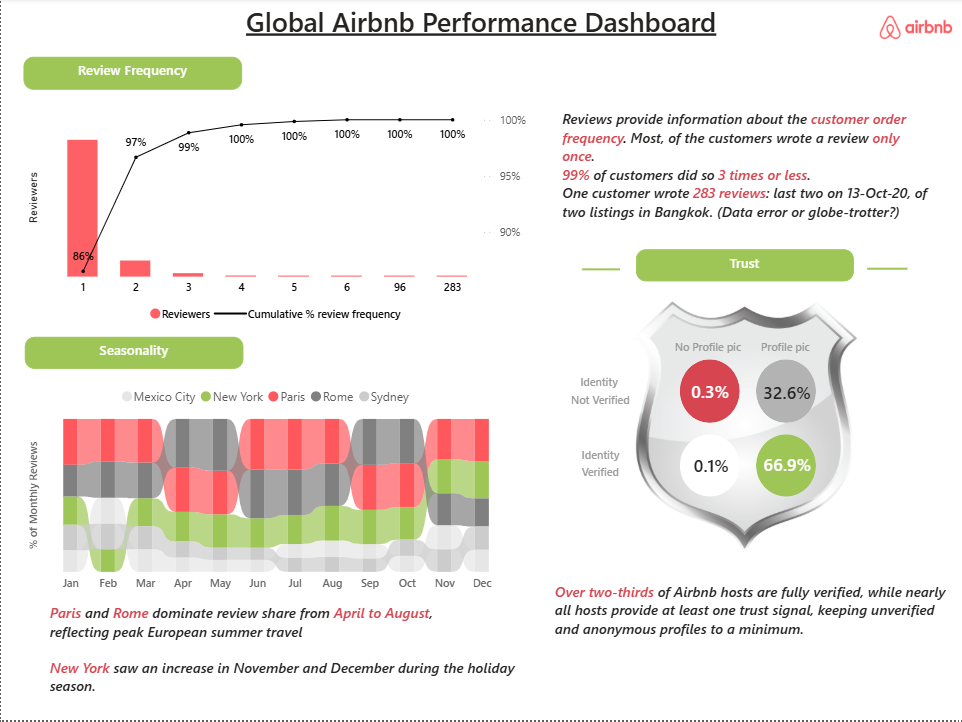

The page's visual inventory and layout, read from the dashboard file:
{"tool":"powerbi","page":{"name":"Reviews","canvas":[960,720],"ordinal":2},"visuals":[{"type":"textbox","box":[238.7,0,482.7,58.5],"z":0},{"type":"image","box":[874.5,11.2,72.1,36.1],"z":1000},{"type":"textbox","box":[22.5,58.8,217.5,32.5],"z":2000},{"type":"textbox","box":[553.6,105.7,378.2,130.6],"z":3000},{"type":"textbox","box":[631.9,250.1,216.4,32.3],"z":4000},{"type":"shape","box":[578.6,250.2,37.5,40],"z":5000},{"type":"shape","box":[862.3,250.2,40,38.8],"z":6000},{"type":"image","box":[521.2,236.4,437.9,381.9],"z":8000},{"type":"lineStackedColumnComboChart","fields":{"Category":["Reviews.Reviews Per Reviewer"],"Y":["Reviews.Reviewers"],"Y2":["Reviews.Cumulative % review frequency"]},"box":[22.4,105.7,505,226.4],"z":9000},{"type":"shape","box":[675.5,359.5,59.7,63.4],"z":10000},{"type":"shape","box":[751.4,359.5,59.7,63.4],"z":11000},{"type":"shape","box":[675.5,434.1,59.7,62.2],"z":12000},{"type":"shape","box":[751.4,434.1,59.7,62.2],"z":13000},{"type":"cardVisual","fields":{"Data":["Listings.% for notverified_noprofile"]},"box":[651.8,358.3,108.2,63.4],"z":14000},{"type":"cardVisual","fields":{"Data":["Listings.% for verified_profile"]},"box":[735.2,436.6,95.8,53.5],"z":15000},{"type":"cardVisual","fields":{"Data":["Listings.% for verified_noprofile"]},"box":[653.1,437.9,108.2,51],"z":16000},{"type":"cardVisual","fields":{"Data":["Listings.% for notverified_profile"]},"box":[733.9,364.5,97,52.2],"z":17000},{"type":"textbox","box":[730.2,332.1,100.8,32.3],"z":18000},{"type":"textbox","box":[653.1,332.1,100.8,32.3],"z":19000},{"type":"textbox","box":[546.1,439.1,100.8,52.2],"z":20000},{"type":"textbox","box":[546.1,367,100.8,48.5],"z":21000},{"type":"textbox","box":[23.6,337.1,217.7,32.3],"z":22000},{"type":"textbox","box":[546.1,576,400.6,85.8],"z":23000},{"type":"ribbonChart","fields":{"Y":["Reviews.% of Monthly Reviews"],"Series":["Listings.city"],"Category":["Reviews.Review Month"]},"box":[23.6,381.9,482.7,215.2],"z":24000},{"type":"textbox","box":[43.5,597.1,477.7,103.2],"z":25000}]}

Visuals, with their boxes in screenshot pixels (x1, y1, x2, y2), scaled from the page's 960x720 canvas onto the 962x722 screenshot:
textbox: [239,0,723,59]
image: [876,11,949,47]
textbox: [23,59,241,92]
textbox: [555,106,934,237]
textbox: [633,251,850,283]
shape: [580,251,617,291]
shape: [864,251,904,290]
image: [522,237,961,620]
lineStackedColumnComboChart - Reviews.Reviews Per Reviewer x Reviews.Reviewers: [22,106,528,333]
shape: [677,360,737,424]
shape: [753,360,813,424]
shape: [677,435,737,498]
shape: [753,435,813,498]
cardVisual - Listings.% for notverified_noprofile: [653,359,762,423]
cardVisual - Listings.% for verified_profile: [737,438,833,491]
cardVisual - Listings.% for verified_noprofile: [654,439,763,490]
cardVisual - Listings.% for notverified_profile: [735,366,833,418]
textbox: [732,333,833,365]
textbox: [654,333,755,365]
textbox: [547,440,648,493]
textbox: [547,368,648,417]
textbox: [24,338,242,370]
textbox: [547,578,949,664]
ribbonChart - Reviews.% of Monthly Reviews x Listings.city: [24,383,507,599]
textbox: [44,599,522,702]
